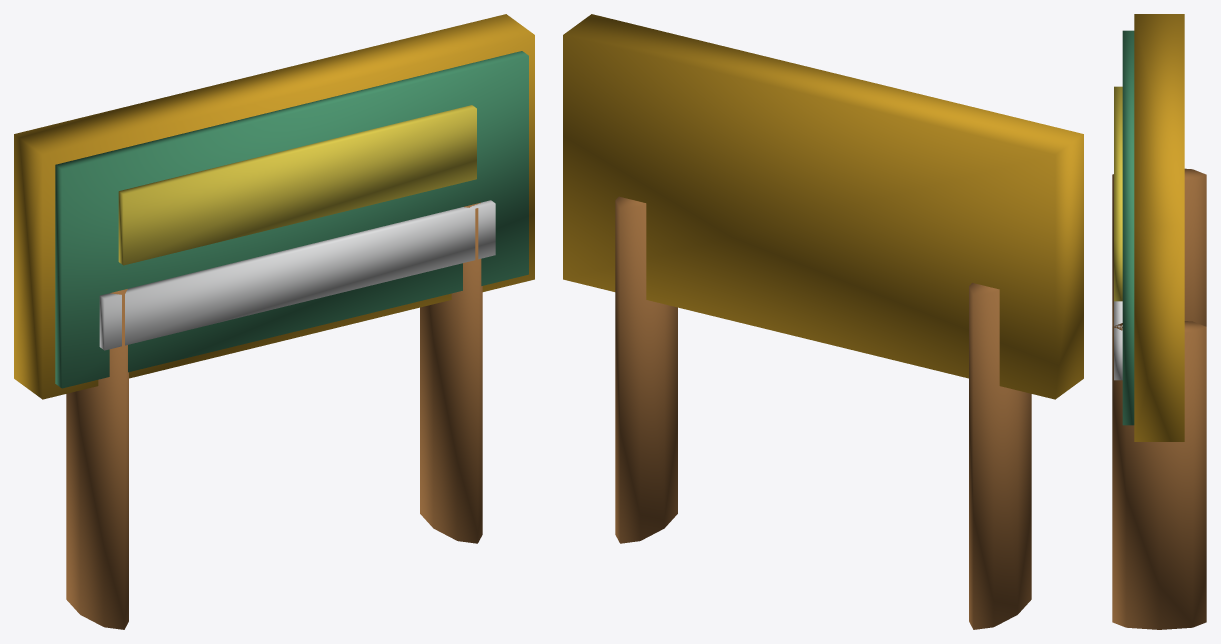
File: billboard.glb
3 views of the same model, side by side, from view 1: azimuth 30°, elevation 25°; view 2: azimuth 150°, elevation 25°; view 3: azimuth 270°, elevation 25° (orthographic). The views are drawn at different scales.
Visible parts, largest first — view 1: world; view 2: world; view 3: world.
Part boxes in pixels (x1,y1,x2,y2): world: [14, 14, 534, 629]; world: [563, 14, 1083, 629]; world: [1112, 14, 1206, 629].
Bounding box in the file's own units: 8 × 7.5 × 1.5.
